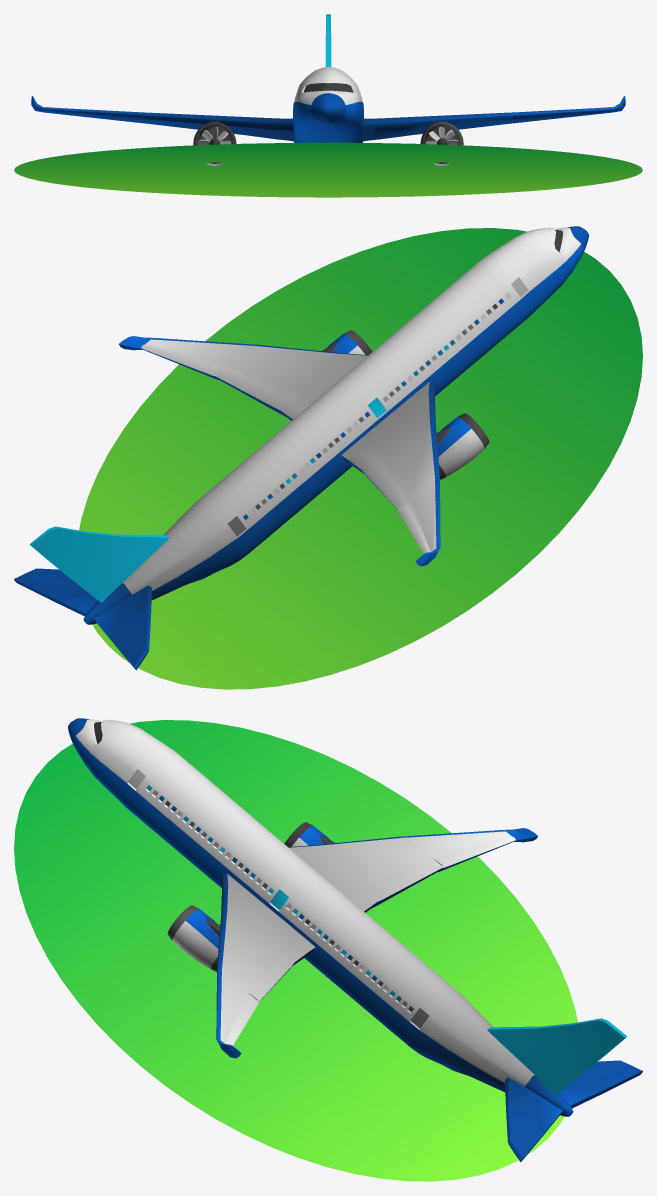
The picture shows the model from 3 angles, top to bottom: view 1: azimuth 30°, elevation 25°; view 2: azimuth 150°, elevation 25°; view 3: azimuth 270°, elevation 25°; orthographic projection.
Visible parts, largest first — view 1: PlanePsi, Ariplane_14p; view 2: PlanePsi, Ariplane_14p; view 3: PlanePsi, Ariplane_14p.
Boxes of the visible parts, x1=… form: PlanePsi: x1=14, y1=142, x2=642, y2=197; Ariplane_14p: x1=31, y1=14, x2=625, y2=165; PlanePsi: x1=79, y1=228, x2=642, y2=689; Ariplane_14p: x1=14, y1=226, x2=588, y2=670; PlanePsi: x1=14, y1=720, x2=577, y2=1181; Ariplane_14p: x1=68, y1=718, x2=642, y2=1162.
Size of what is drawn, in the model's own units: 130 by 75.96 by 133.
